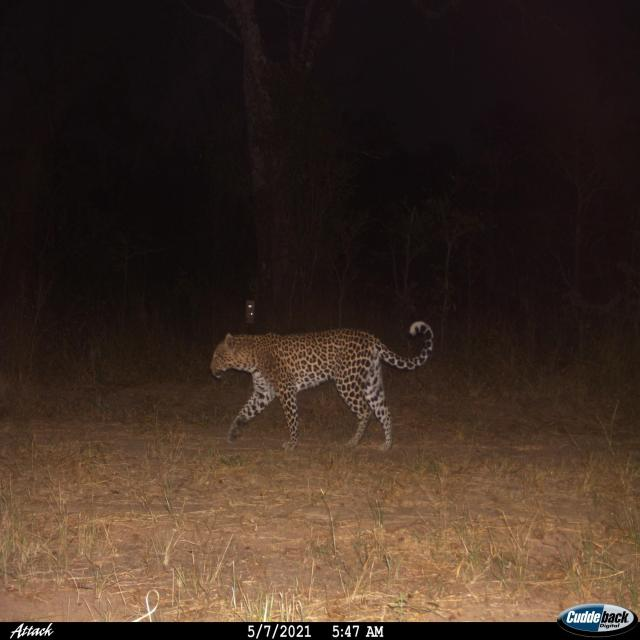Leopard: (207, 306, 447, 460)
